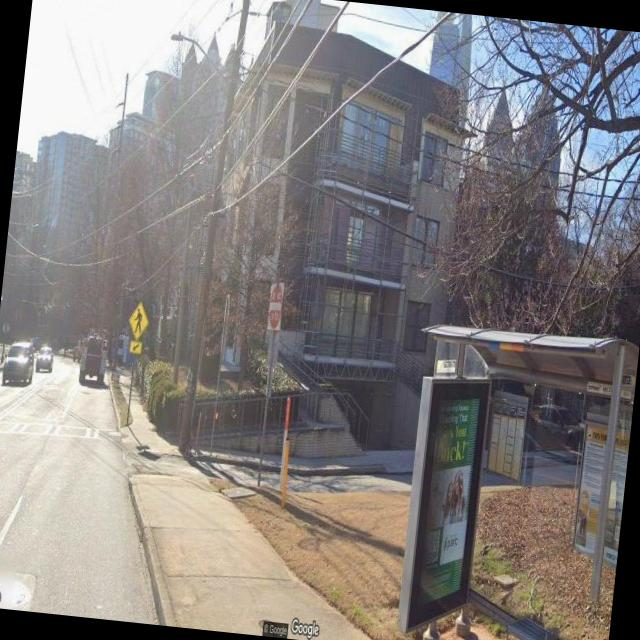seating: (501, 613, 587, 640)
shelter: (388, 308, 640, 640)
